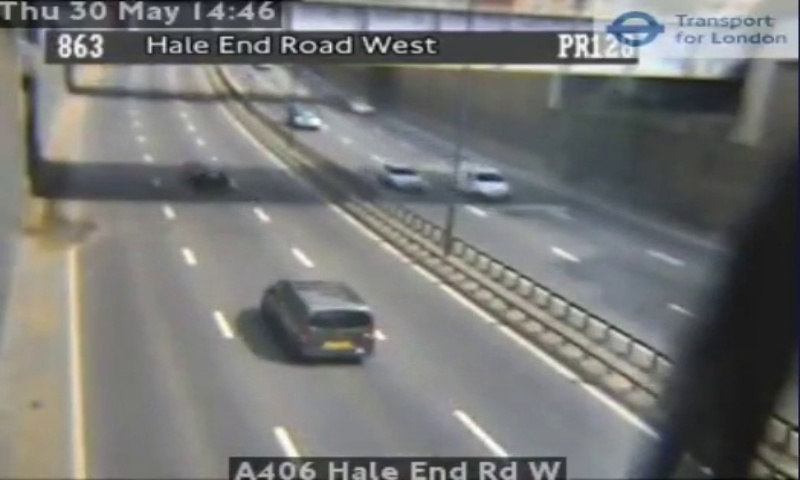van: (265, 280, 377, 360)
